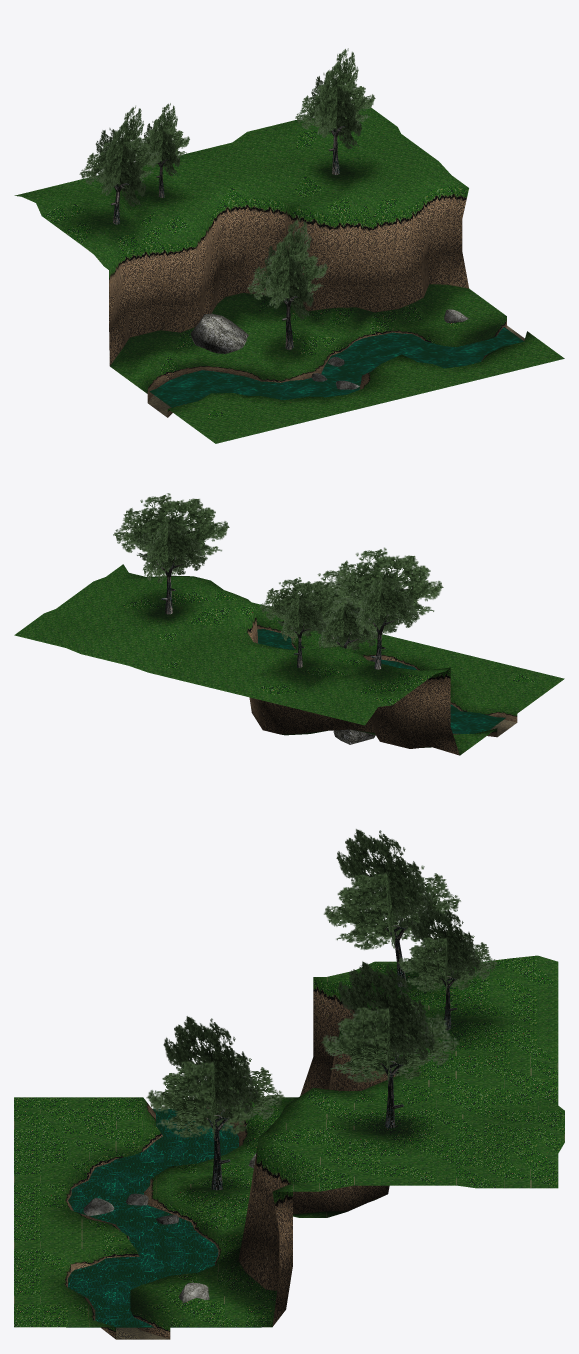
3 views of the same model, one above another, from view 1: azimuth 30°, elevation 25°; view 2: azimuth 150°, elevation 25°; view 3: azimuth 270°, elevation 25° (orthographic). The views are drawn at different scales.
Parts seen in each view (by area): view 1: Grade.001-col, leavesREAL2.001, Plano, Cube-col.004, Cube-col; view 2: Grade.001-col, leavesREAL2.001, Plano, Cube-col, Cube-col.004; view 3: Grade.001-col, leavesREAL2.001, Plano, Cube-col, Cube-col.004.
Boxes of the visible parts, x1=… form: Grade.001-col: x1=14, y1=105, x2=564, y2=443; leavesREAL2.001: x1=79, y1=48, x2=375, y2=319; Plano: x1=149, y1=327, x2=523, y2=407; Cube-col.004: x1=190, y1=309, x2=469, y2=389; Cube-col: x1=98, y1=117, x2=346, y2=349; Grade.001-col: x1=14, y1=564, x2=564, y2=755; leavesREAL2.001: x1=113, y1=493, x2=443, y2=650; Plano: x1=257, y1=629, x2=505, y2=733; Cube-col: x1=138, y1=553, x2=397, y2=669; Cube-col.004: x1=333, y1=659, x2=375, y2=744; Grade.001-col: x1=14, y1=955, x2=564, y2=1339; leavesREAL2.001: x1=146, y1=829, x2=497, y2=1138; Plano: x1=66, y1=1108, x2=261, y2=1327; Cube-col: x1=206, y1=918, x2=458, y2=1190; Cube-col.004: x1=83, y1=1153, x2=256, y2=1303.
Bounding box in the file's own units: 280 × 200 × 280.
Materials: 5 (5 with a texture image).
